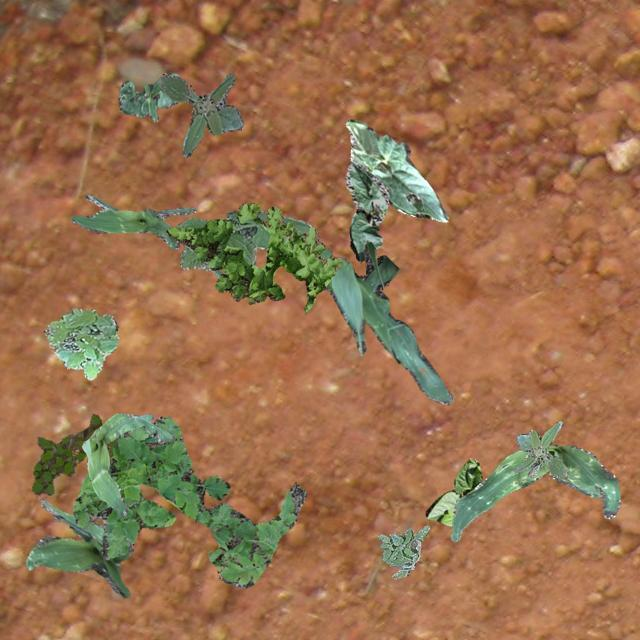crop: (316, 242, 452, 404), (450, 444, 620, 540), (70, 192, 220, 278), (344, 118, 448, 220), (24, 498, 132, 596), (80, 412, 172, 518), (176, 210, 310, 270), (344, 160, 388, 260), (424, 456, 482, 524), (117, 72, 177, 120)
weed: (72, 416, 306, 588), (166, 202, 342, 312), (158, 72, 242, 156), (30, 414, 114, 494), (42, 308, 118, 380), (514, 420, 568, 478), (376, 524, 428, 578)
